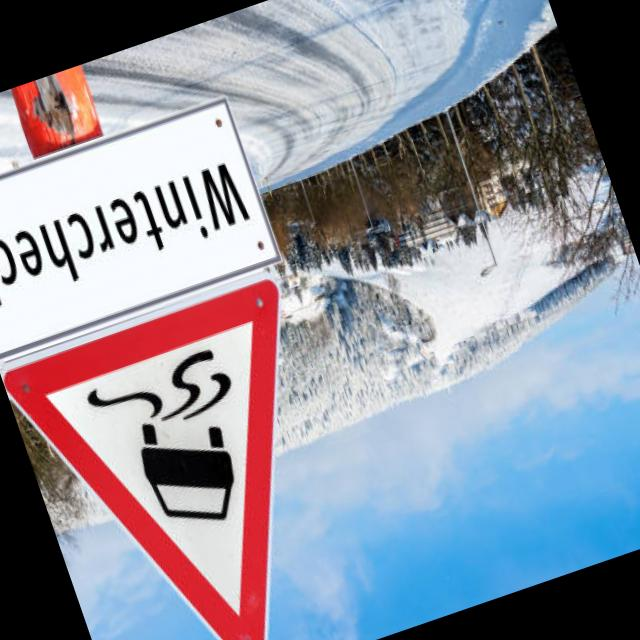road_slippery: (0, 264, 397, 640)
